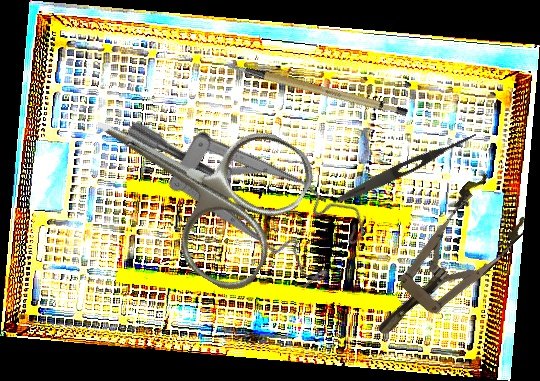Dressing Forceps: (335, 127, 479, 207)
Iris Scissors: (57, 53, 324, 301)
Scalpel Handle: (224, 34, 410, 140)
Speculum: (123, 47, 379, 322), (352, 168, 536, 358)
